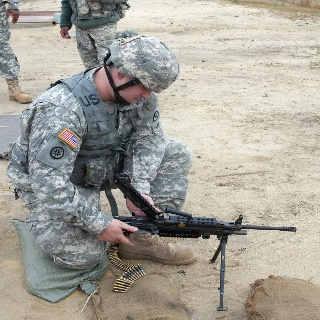rifle: (104, 209, 299, 240)
